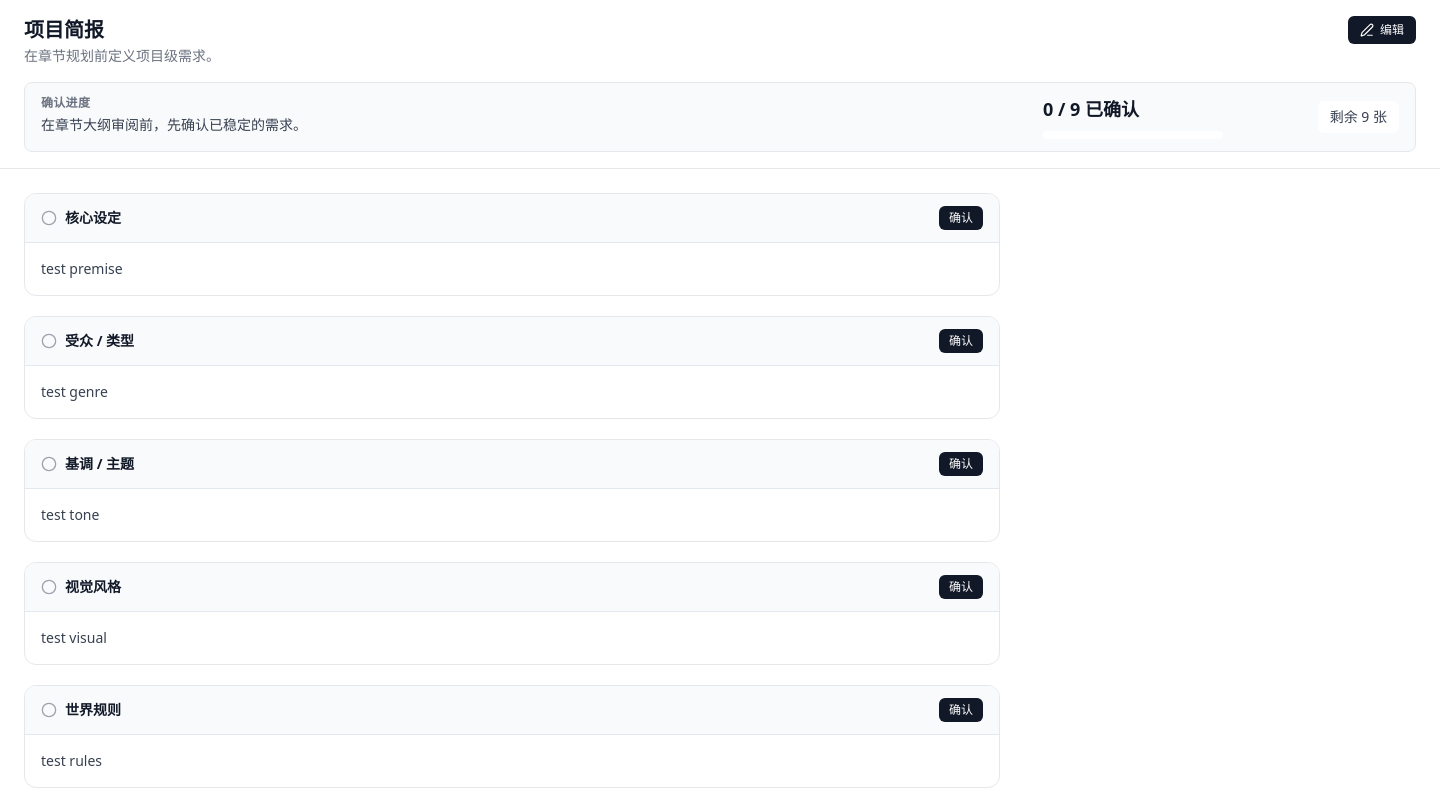
BriefWorkspaceView action error handling › should show an inline error and re-enable the card when confirming fails
Click the button "确认" in the row of "核心设定" at (961, 218), box x1=939 y1=206 x2=983 y2=230
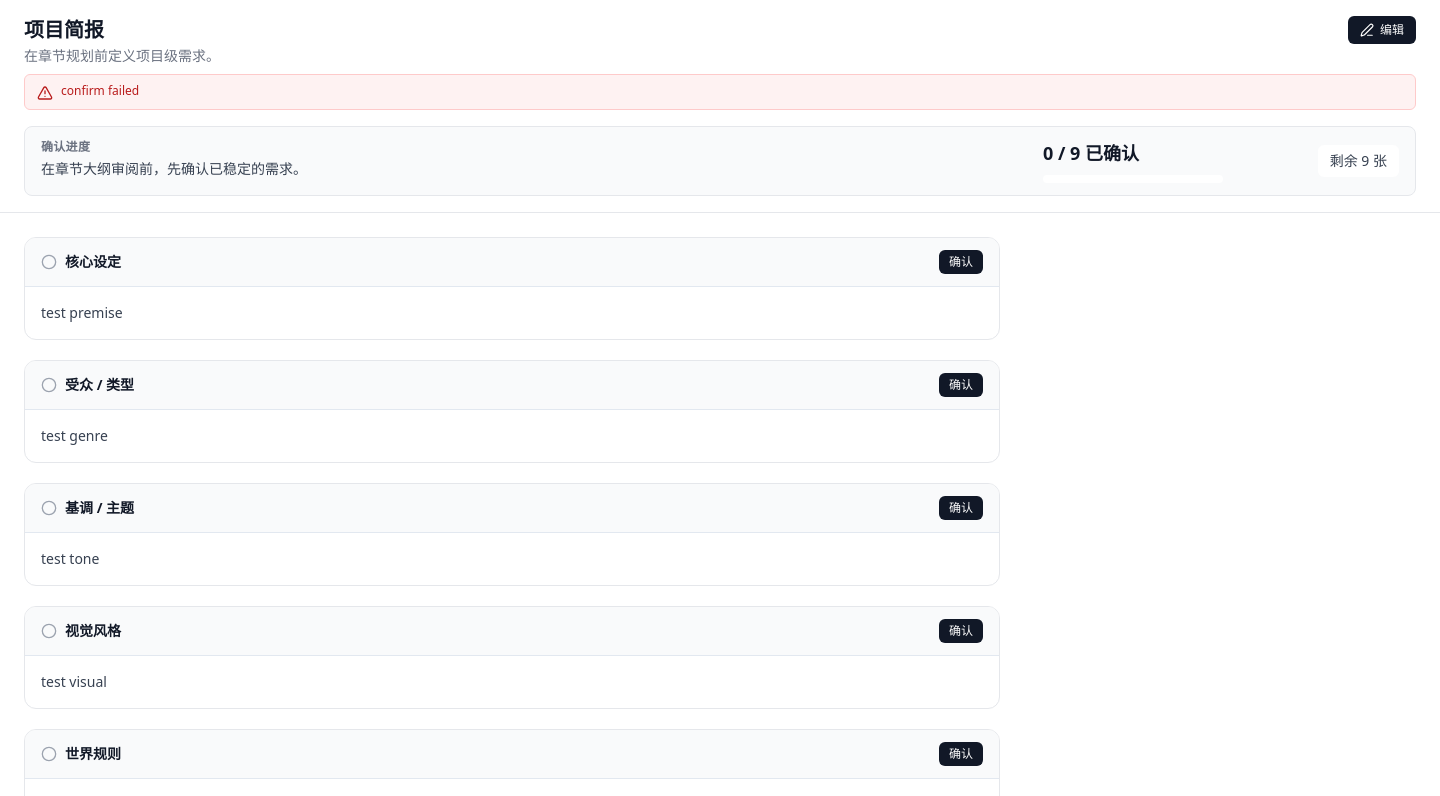
Expected: the button "确认" in the row of "核心设定" is enabled, x1=939 y1=250 x2=983 y2=274
Result: the element with test id "brief-action-error" reads "confirm failed" at x1=61 y1=82 x2=139 y2=99
